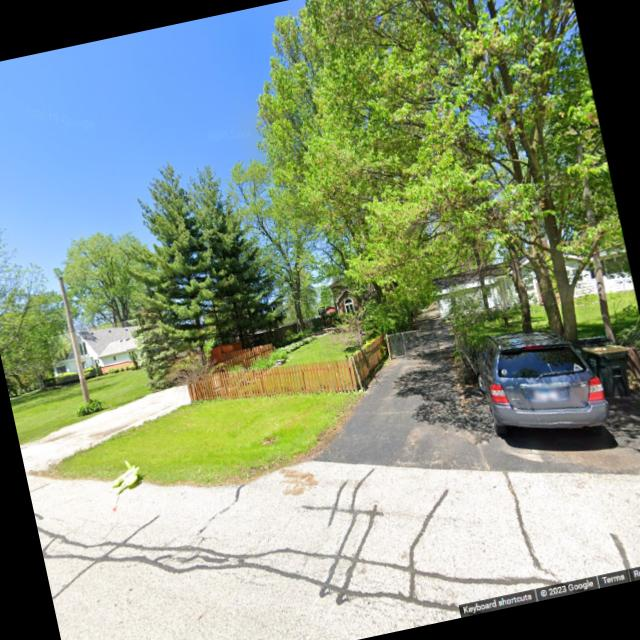House: (431, 234, 634, 328), (46, 317, 148, 383), (330, 275, 378, 326)
